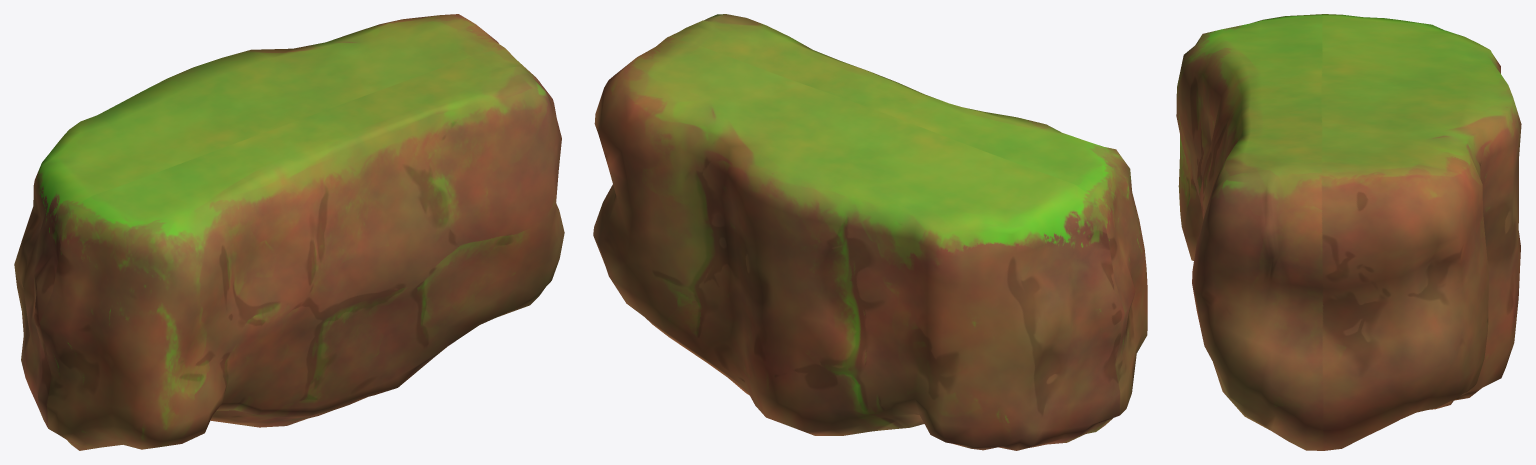
File: Landscape_Cliff_cartoon.fbx
The picture shows the model from 3 angles, left to right: view 1: azimuth 30°, elevation 25°; view 2: azimuth 150°, elevation 25°; view 3: azimuth 270°, elevation 25°; orthographic projection. The views are drawn at different scales.
Visible parts, largest first — view 1: Cliff_Landscape; view 2: Cliff_Landscape; view 3: Cliff_Landscape.
Boxes of the visible parts, x1,y1,x2,y2 form: Cliff_Landscape: (14,14,564,450); Cliff_Landscape: (593,14,1147,450); Cliff_Landscape: (1176,14,1521,450).
Size of the model in its own units: 758 by 468 by 428.
1 material, 1 textured.
